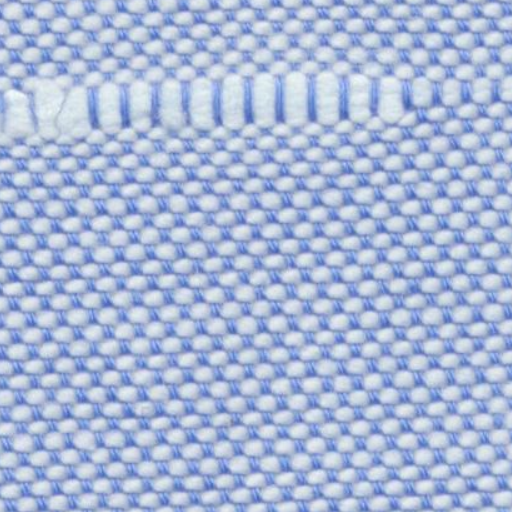DaiSha: (4, 60, 476, 154)
